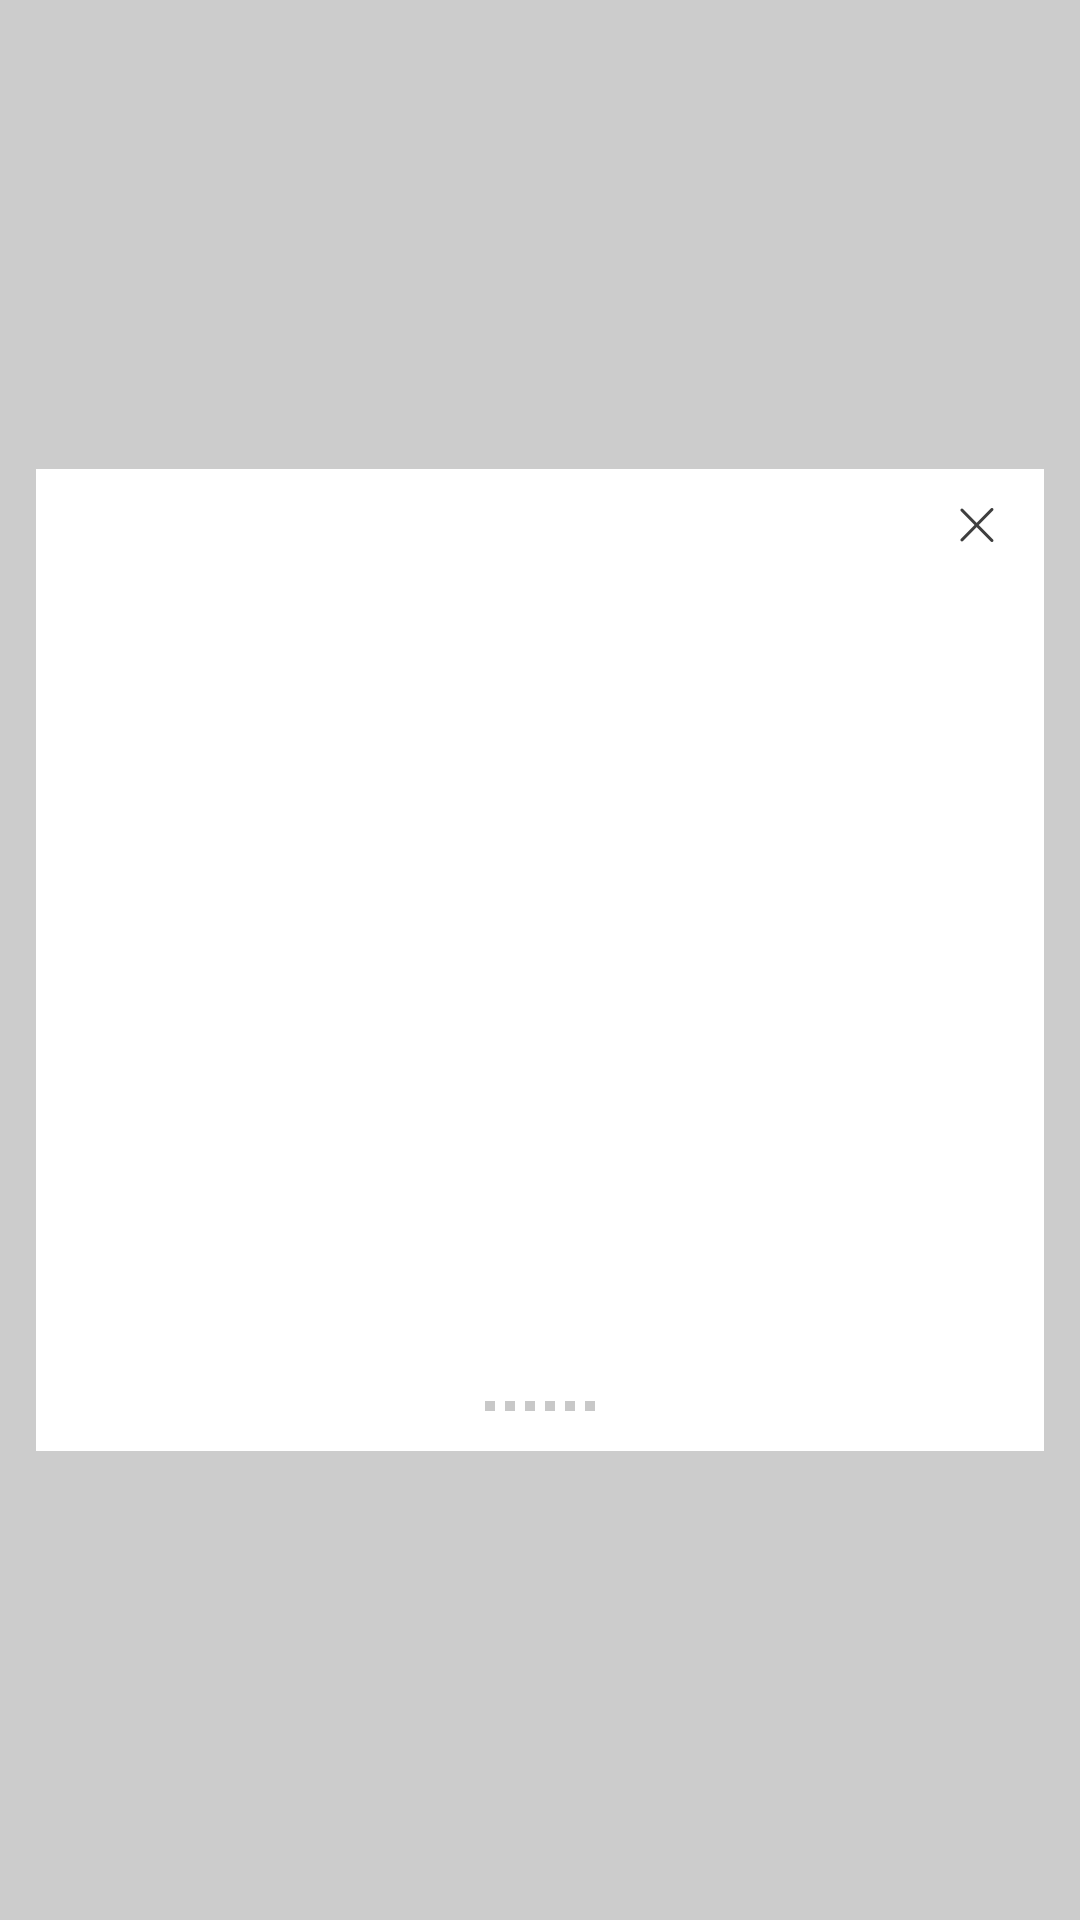

Locate icon controls on the screen. Image size 1080*1920, boxes as (x1, y1, x2, y2).
help close: (960, 508, 994, 542)
